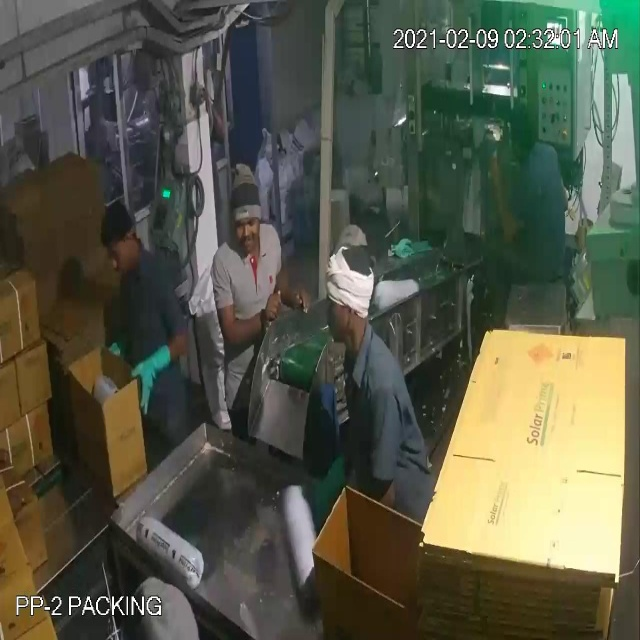Guantes: (129, 342, 182, 422)
Sin_guantes: (484, 143, 530, 261), (211, 289, 287, 343), (270, 258, 308, 317)
